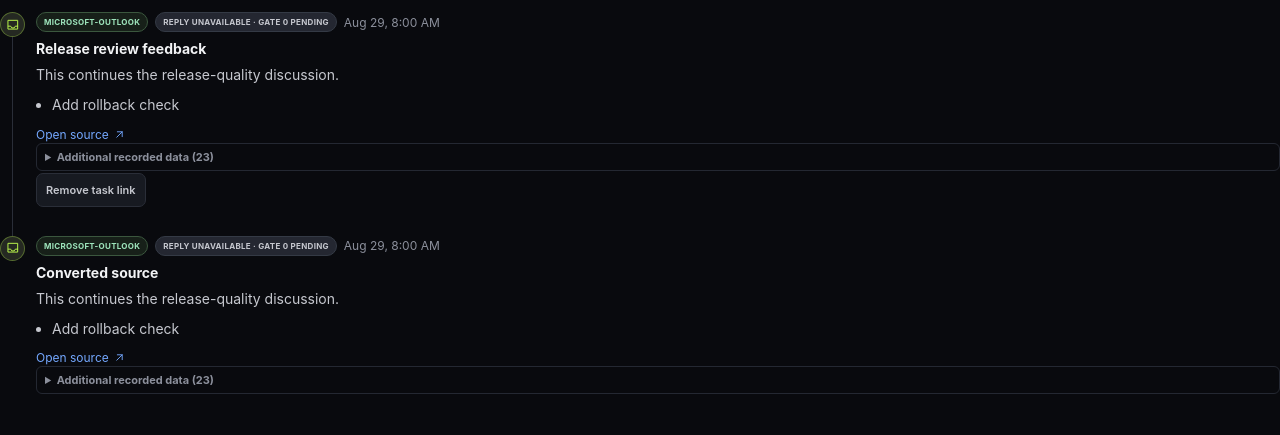
an unknown outcome retries the same intent under the same key and body
The width and height of the screenshot is (1280, 435).
Click the button "Remove task link": x=91, y=190 [36,173,146,207]
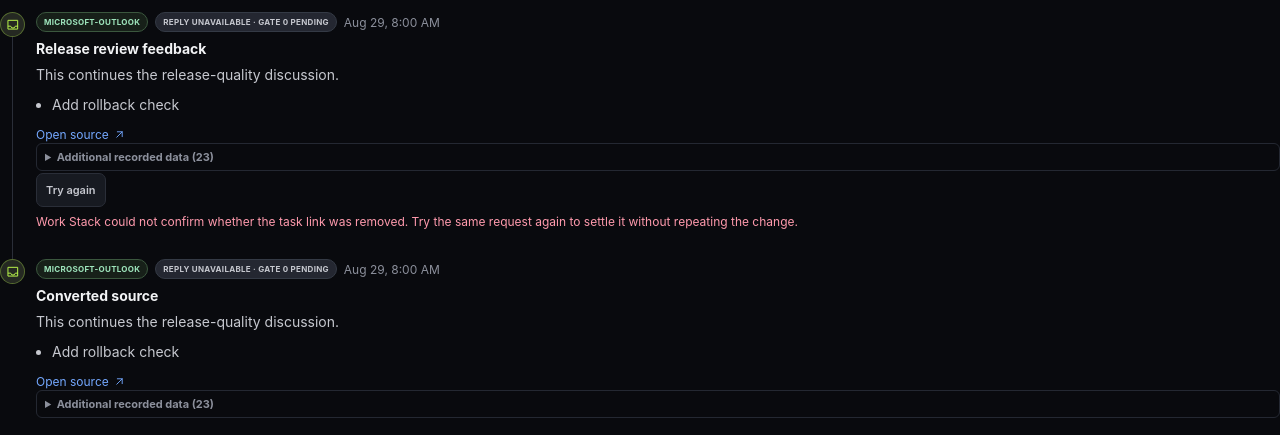
Expected: the element named "Release review feedback" is shown, [0,12,1279,259]
Expected: the message shows "Work Stack could not confirm whether the task link was removed.", [36,214,798,229]
Click the button "Try again": x=71, y=190 [36,173,106,207]
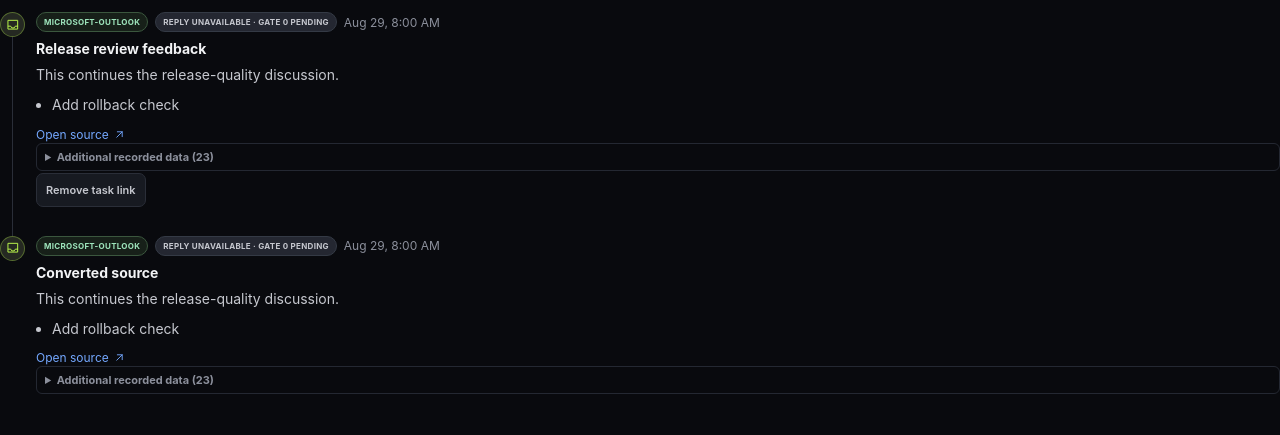
Expected: the button "Remove task link" is enabled, [36,173,146,207]
Expected: the message is gone
